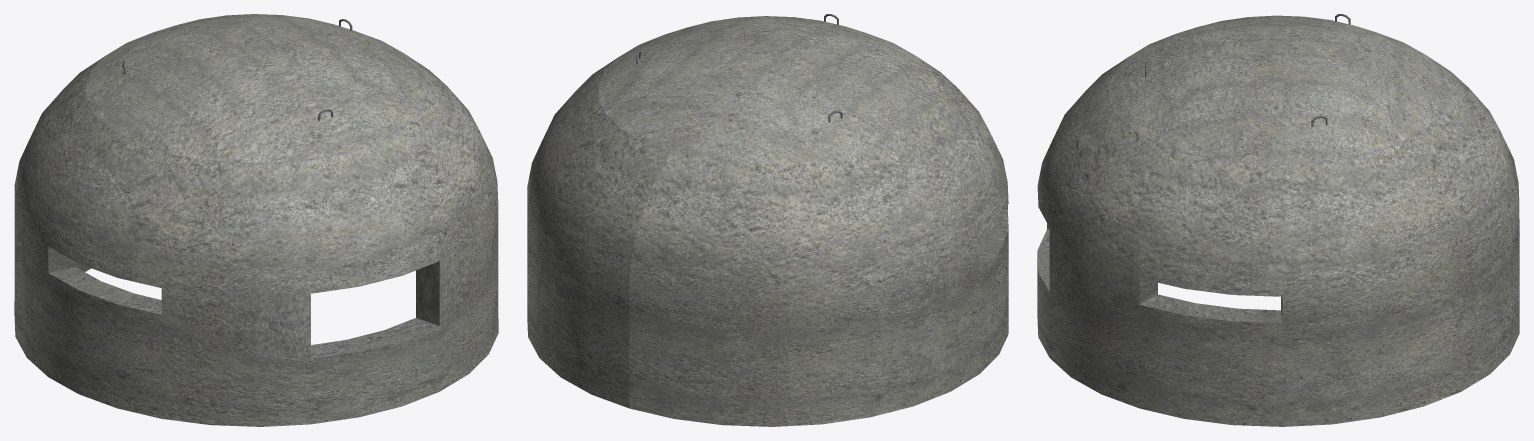
File: Bunker.FBX
3 views of the same model, side by side, from view 1: azimuth 30°, elevation 25°; view 2: azimuth 150°, elevation 25°; view 3: azimuth 270°, elevation 25° (orthographic).
Visible parts, largest first — view 1: obj389; view 2: obj389; view 3: obj389.
Part boxes in pixels (bbox=[...]): obj389: bbox=[14, 14, 498, 426]; obj389: bbox=[527, 14, 1008, 426]; obj389: bbox=[1037, 14, 1519, 426].
Size of the model in its own units: 19.08 by 12.12 by 19.01.
